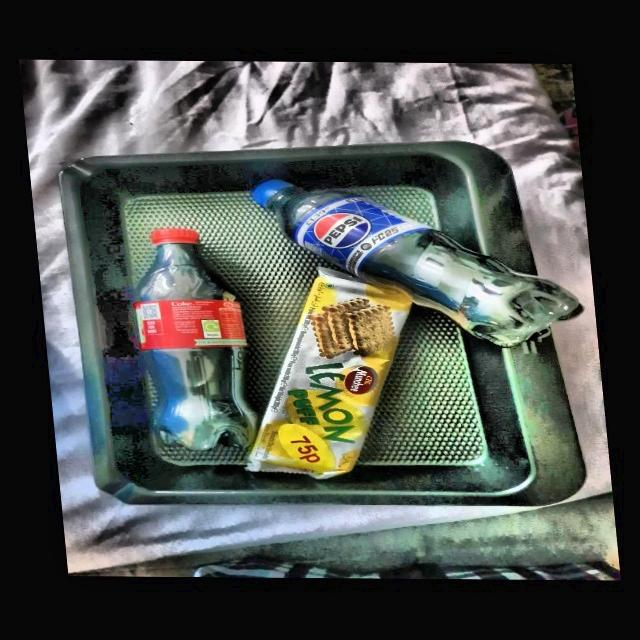coke-bottle: (130, 225, 251, 453)
lemon puff: (253, 259, 410, 477)
pepsi-bottle: (253, 174, 576, 344)
